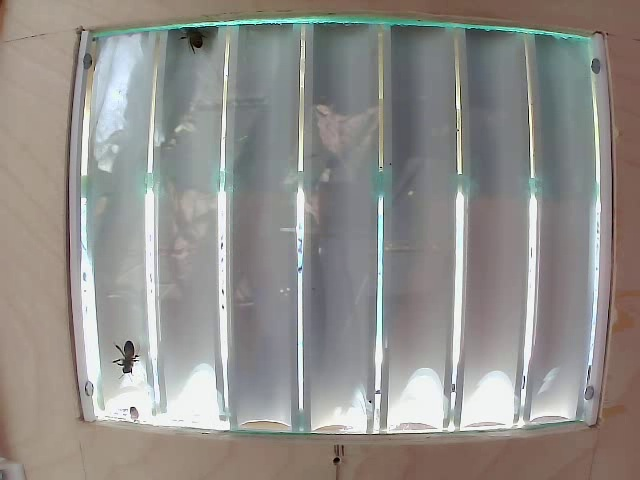bee: (106, 325, 140, 375)
